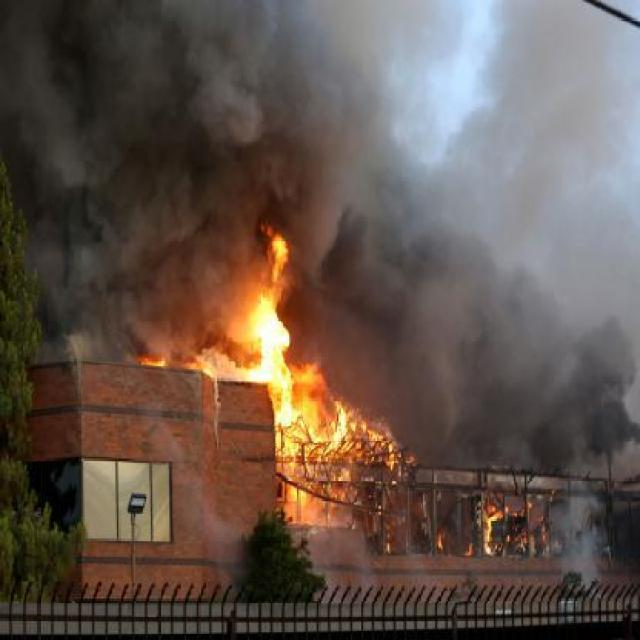Fire: (138, 228, 407, 481), (456, 481, 562, 554)
